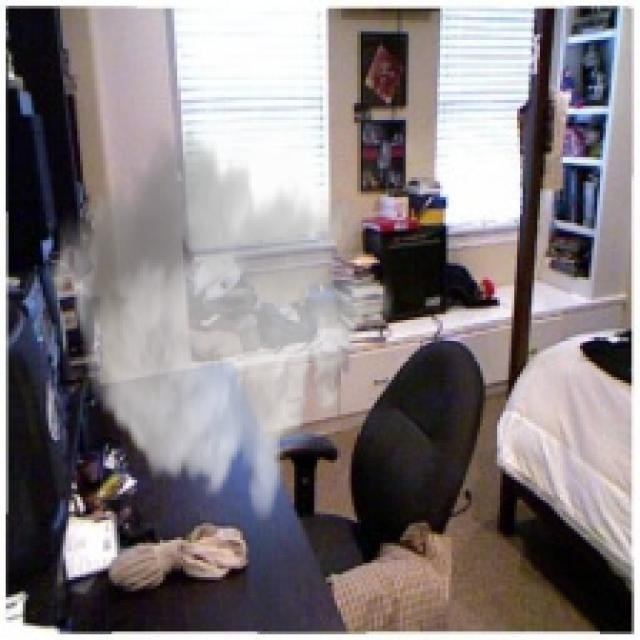smoke: (46, 123, 394, 526)
